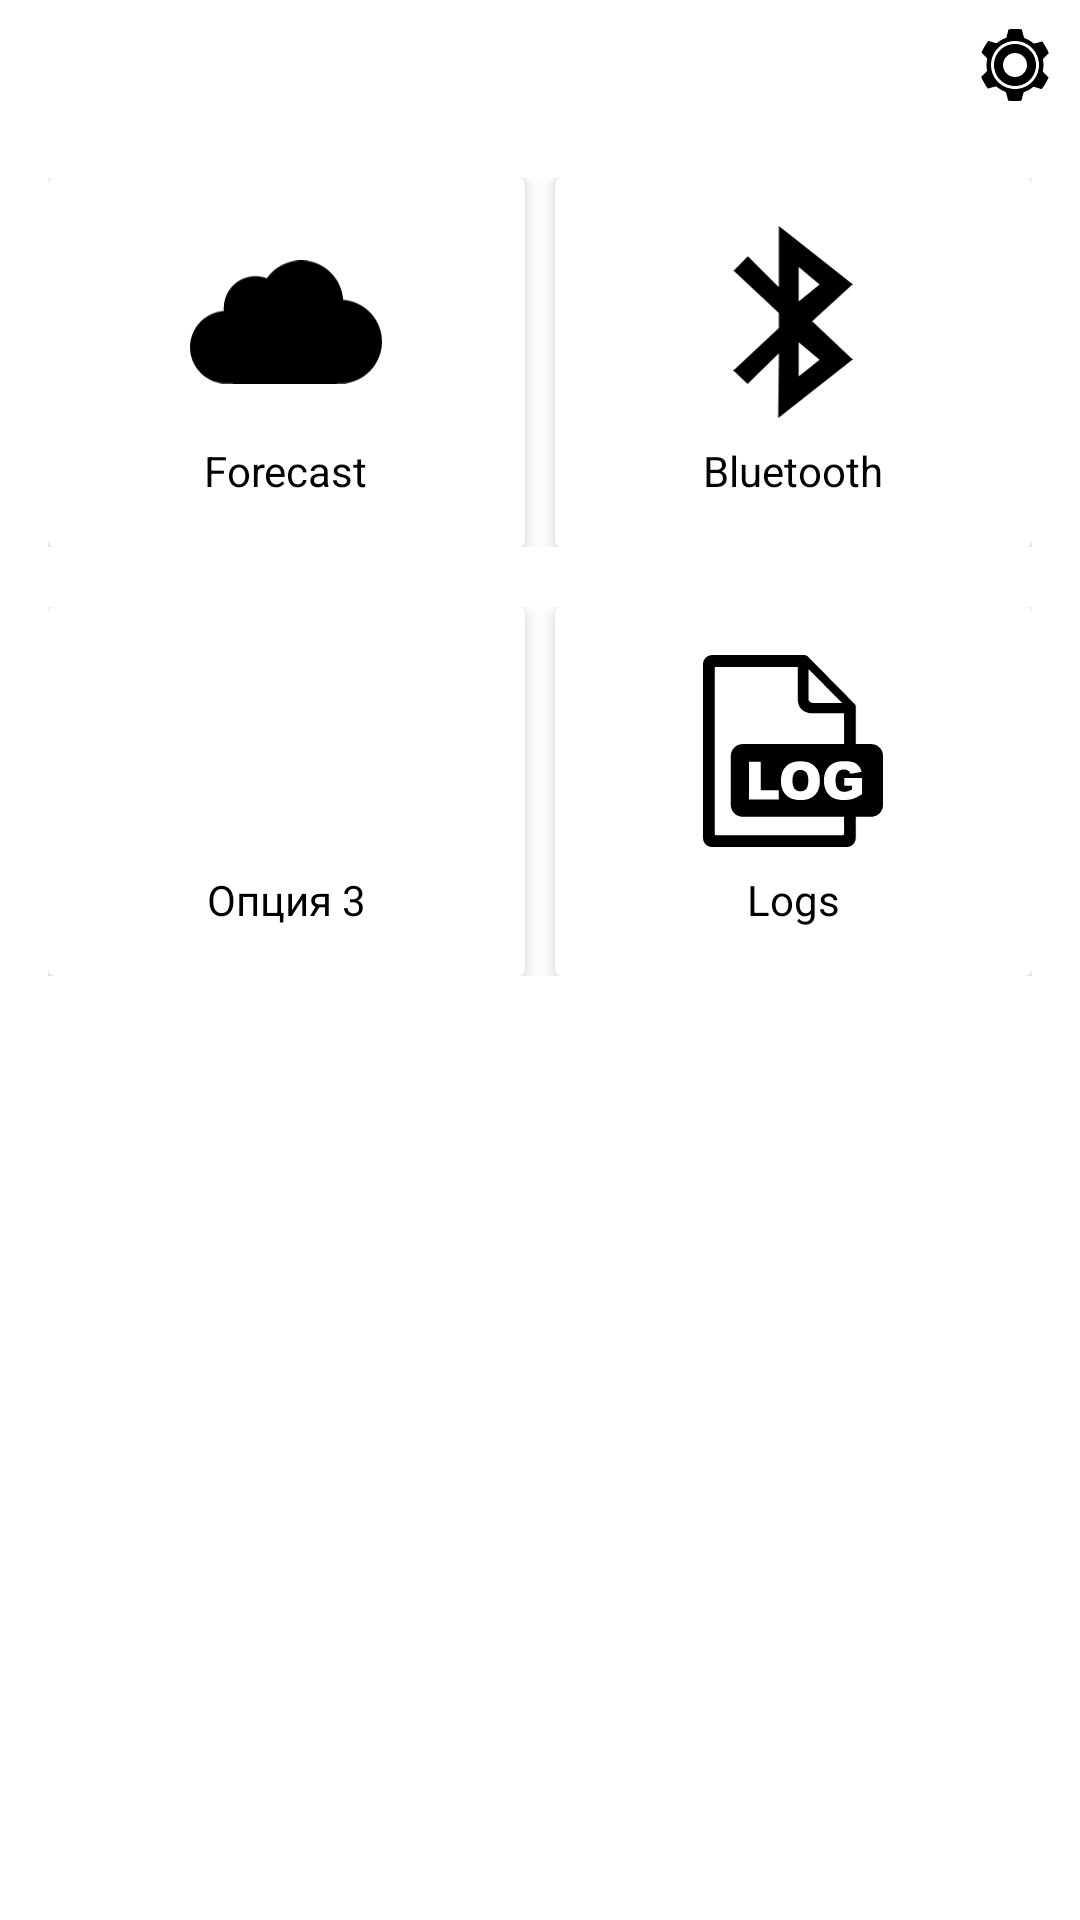

Named icons in this screenshot (1080x1920) and their bounding boxes, (x1, y1, x2, y2):
settings: (981, 29, 1049, 101)
